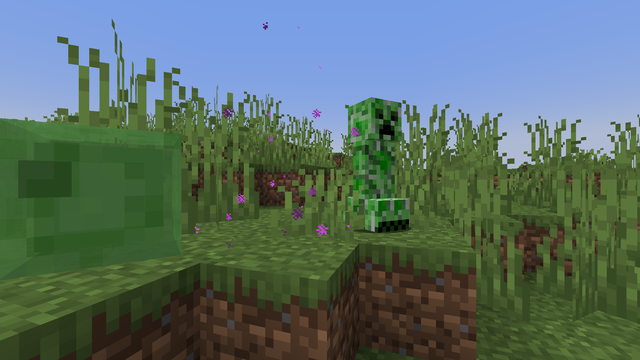creepers: (346, 89, 397, 231)
slimes: (8, 112, 202, 279)
